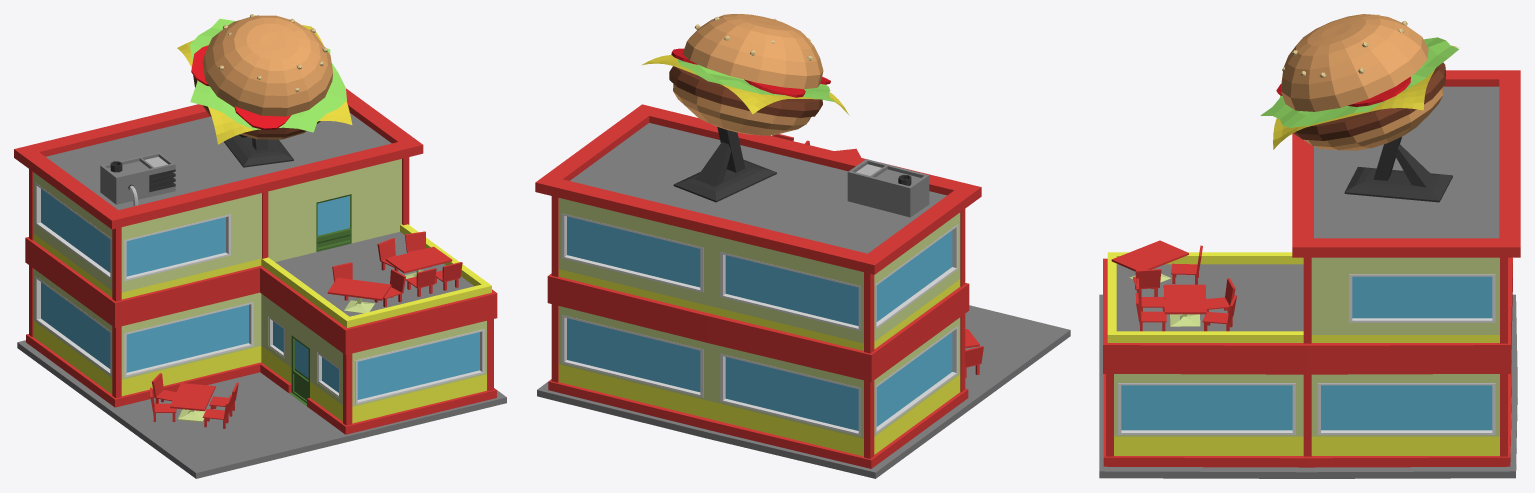
The model's file is hamburgerStore.fbx.
3 views of the same model, side by side, from view 1: azimuth 30°, elevation 25°; view 2: azimuth 150°, elevation 25°; view 3: azimuth 270°, elevation 25° (orthographic). The views are drawn at different scales.
Visible parts, largest first — view 1: HamburgerJoint; view 2: HamburgerJoint; view 3: HamburgerJoint.
Part boxes in pixels (x1,y1,x2,y2): HamburgerJoint: (14, 14, 506, 478); HamburgerJoint: (535, 14, 1070, 478); HamburgerJoint: (1099, 14, 1520, 478).
Size of the model in its own units: 700 by 700 by 700.
